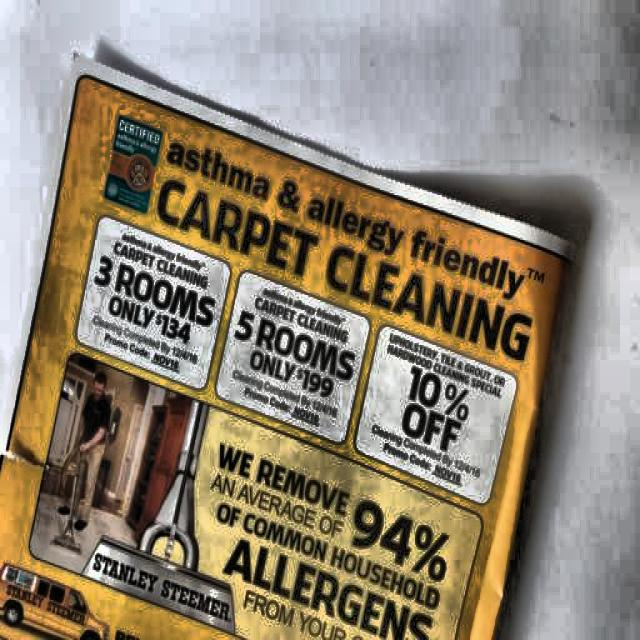paper: (0, 60, 569, 630)
